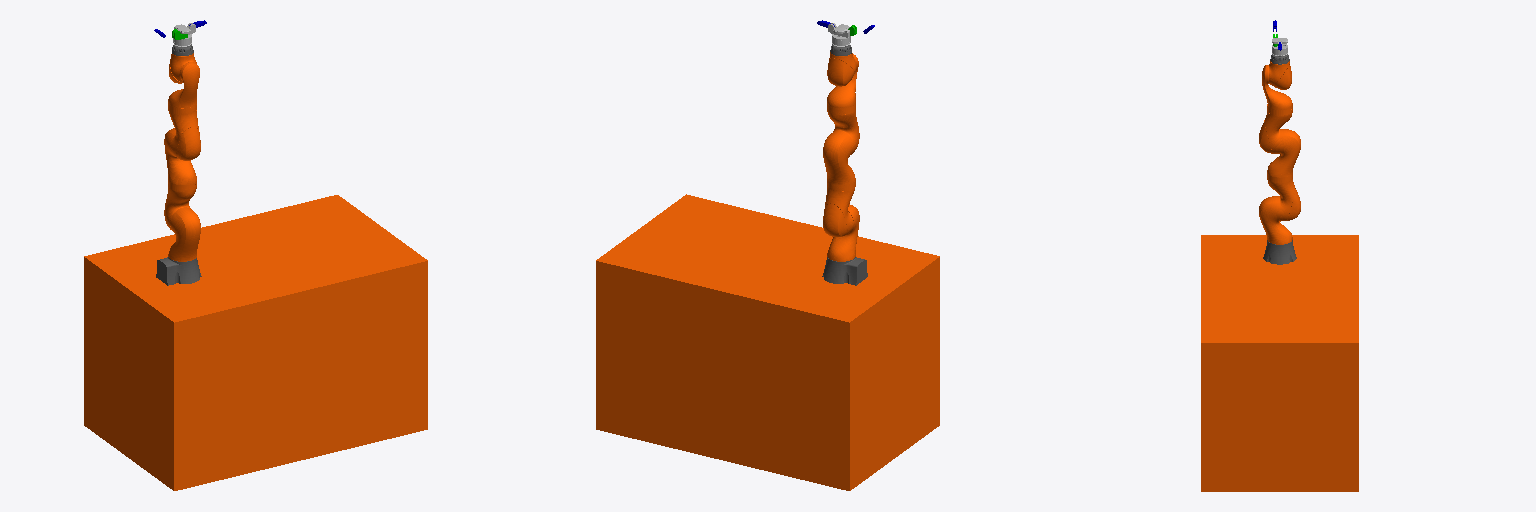
robot.urdf — iiwa7:
<?xml version="1.0" ?>
<!-- =================================================================================== -->
<!-- |    This document was autogenerated by xacro from [local-path]/kuka_ws/src/iiwa_bhand/iiwa_bhand_description/robots/iiwa7_bhand.urdf.xacro | -->
<!-- |    EDITING THIS FILE BY HAND IS NOT RECOMMENDED                                 | -->
<!-- =================================================================================== -->
<robot name="iiwa7">
  <material name="Black">
    <color rgba="0.0 0.0 0.0 1.0"/>
  </material>
  <material name="Blue">
    <color rgba="0.0 0.0 0.8 1.0"/>
  </material>
  <material name="Green">
    <color rgba="0.0 0.8 0.0 1.0"/>
  </material>
  <material name="Grey">
    <color rgba="0.4 0.4 0.4 1.0"/>
  </material>
  <material name="Orange">
    <color rgba="1.0 0.4235294117647059 0.0392156862745098 1.0"/>
  </material>
  <material name="Brown">
    <color rgba="0.8705882352941177 0.8117647058823529 0.7647058823529411 1.0"/>
  </material>
  <material name="Red">
    <color rgba="0.8 0.0 0.0 1.0"/>
  </material>
  <material name="White">
    <color rgba="1.0 1.0 1.0 1.0"/>
  </material>
  <!-- Fix to world just for testing -->
  <link name="world">
        <inertial>
      <origin rpy="0 0 0" xyz="0 0 0"/>
      <mass value="0"/>
      <inertia ixx="0" ixy="0" ixz="0" iyy="0" iyz="0" izz="0"/>
    </inertial>
  </link>
  <!--joint between {parent} and link_0-->
  <joint name="world_iiwa_joint" type="fixed">
    <origin rpy="0 0 0" xyz="0 0 0"/>
    <parent link="world"/>
    <child link="iiwa_link_0"/>
  </joint>
  <link name="iiwa_link_0">
    <inertial>
      <origin rpy="0 0 0" xyz="-0.1 0 0.07"/>
      <mass value="5"/>
      <inertia ixx="0.05" ixy="0" ixz="0" iyy="0.06" iyz="0" izz="0.03"/>
    </inertial>
    <visual>
      <origin rpy="0 0 0" xyz="0 0 0"/>
      <geometry>
        <mesh filename="package://iiwa_description/meshes/iiwa7/visual/link_0.obj"/>
      </geometry>
      <material name="Grey"/>
    </visual>
    <collision>
      <origin rpy="0 0 0" xyz="0 0 0"/>
      <geometry>
        <mesh filename="package://iiwa_description/meshes/iiwa7/collision/link_0.obj"/>
      </geometry>
      <material name="Grey"/>
    </collision>
    <self_collision_checking>
      <origin rpy="0 0 0" xyz="0 0 0"/>
      <geometry>
        <capsule length="0.25" radius="0.15"/>
      </geometry>
    </self_collision_checking>
  </link>
  <!-- joint between link_0 and link_1 -->
  <joint name="iiwa_joint_1" type="revolute">
    <parent link="iiwa_link_0"/>
    <child link="iiwa_link_1"/>
    <origin rpy="0 0 0" xyz="0 0 0.15"/>
    <axis xyz="0 0 1"/>
    <limit effort="300" lower="-2.9670597283903604" upper="2.9670597283903604" velocity="10"/>
    <safety_controller k_position="100" k_velocity="2" soft_lower_limit="-2.9321531433504737" soft_upper_limit="2.9321531433504737"/>
    <dynamics damping="0.5"/>
  </joint>
  <link name="iiwa_link_1">
    <inertial>
      <origin rpy="0 0 0" xyz="0 -0.03 0.12"/>
      <mass value="3.4525"/>
      <inertia ixx="0.02183" ixy="0" ixz="0" iyy="0.007703" iyz="-0.003887" izz="0.02083"/>
    </inertial>
    <visual>
      <origin rpy="0 0 0" xyz="0 0 0.0075"/>
      <geometry>
        <mesh filename="package://iiwa_description/meshes/iiwa7/visual/link_1.obj"/>
      </geometry>
      <material name="Orange"/>
    </visual>
    <collision>
      <origin rpy="0 0 0" xyz="0 0 0.0075"/>
      <geometry>
        <mesh filename="package://iiwa_description/meshes/iiwa7/collision/link_1.obj"/>
      </geometry>
      <material name="Orange"/>
    </collision>
  </link>
  <joint name="iiwa_joint_2" type="revolute">
    <parent link="iiwa_link_1"/>
    <child link="iiwa_link_2"/>
    <origin rpy="1.5707963267948966   0 3.141592653589793" xyz="0 0 0.19"/>
    <axis xyz="0 0 1"/>
    <limit effort="300" lower="-2.0943951023931953" upper="2.0943951023931953" velocity="10"/>
    <safety_controller k_position="100" k_velocity="2" soft_lower_limit="-2.0594885173533086" soft_upper_limit="2.0594885173533086"/>
    <dynamics damping="0.5"/>
  </joint>
  <link name="iiwa_link_2">
    <inertial>
      <origin rpy="0 0 0" xyz="0.0003 0.059 0.042"/>
      <mass value="3.4821"/>
      <inertia ixx="0.02076" ixy="0" ixz="-0.003626" iyy="0.02179" iyz="0" izz="0.00779"/>
    </inertial>
    <visual>
      <origin rpy="0 0 0" xyz="0 0 0"/>
      <geometry>
        <mesh filename="package://iiwa_description/meshes/iiwa7/visual/link_2.obj"/>
      </geometry>
      <material name="Orange"/>
    </visual>
    <collision>
      <origin rpy="0 0 0" xyz="0 0 0"/>
      <geometry>
        <mesh filename="package://iiwa_description/meshes/iiwa7/collision/link_2.obj"/>
      </geometry>
      <material name="Orange"/>
    </collision>
  </link>
  <joint name="iiwa_joint_3" type="revolute">
    <parent link="iiwa_link_2"/>
    <child link="iiwa_link_3"/>
    <origin rpy="1.5707963267948966 0 3.141592653589793" xyz="0 0.21 0"/>
    <axis xyz="0 0 1"/>
    <limit effort="300" lower="-2.9670597283903604" upper="2.9670597283903604" velocity="10"/>
    <safety_controller k_position="100" k_velocity="2" soft_lower_limit="-2.9321531433504737" soft_upper_limit="2.9321531433504737"/>
    <dynamics damping="0.5"/>
  </joint>
  <link name="iiwa_link_3">
    <inertial>
      <origin rpy="0 0 0" xyz="0 0.03 0.13"/>
      <mass value="4.05623"/>
      <inertia ixx="0.03204" ixy="0" ixz="0" iyy="0.00972" iyz="0.006227" izz="0.03042"/>
    </inertial>
    <visual>
      <origin rpy="0 0 0" xyz="0 0 -0.026"/>
      <geometry>
        <mesh filename="package://iiwa_description/meshes/iiwa7/visual/link_3.obj"/>
      </geometry>
      <material name="Orange"/>
    </visual>
    <collision>
      <origin rpy="0 0 0" xyz="0 0 -0.026"/>
      <geometry>
        <mesh filename="package://iiwa_description/meshes/iiwa7/collision/link_3.obj"/>
      </geometry>
      <material name="Orange"/>
    </collision>
  </link>
  <joint name="iiwa_joint_4" type="revolute">
    <parent link="iiwa_link_3"/>
    <child link="iiwa_link_4"/>
    <origin rpy="1.5707963267948966 0 0" xyz="0 0 0.19"/>
    <axis xyz="0 0 1"/>
    <limit effort="300" lower="-2.0943951023931953" upper="2.0943951023931953" velocity="10"/>
    <safety_controller k_position="100" k_velocity="2" soft_lower_limit="-2.0594885173533086" soft_upper_limit="2.0594885173533086"/>
    <dynamics damping="0.5"/>
  </joint>
  <link name="iiwa_link_4">
    <inertial>
      <origin rpy="0 0 0" xyz="0 0.067 0.034"/>
      <mass value="3.4822"/>
      <inertia ixx="0.02178" ixy="0" ixz="0" iyy="0.02075" iyz="-0.003625" izz="0.007785"/>
    </inertial>
    <visual>
      <origin rpy="0 0 0" xyz="0 0 0"/>
      <geometry>
        <mesh filename="package://iiwa_description/meshes/iiwa7/visual/link_4.obj"/>
      </geometry>
      <material name="Orange"/>
    </visual>
    <collision>
      <origin rpy="0 0 0" xyz="0 0 0"/>
      <geometry>
        <mesh filename="package://iiwa_description/meshes/iiwa7/collision/link_4.obj"/>
      </geometry>
      <material name="Orange"/>
    </collision>
  </link>
  <joint name="iiwa_joint_5" type="revolute">
    <parent link="iiwa_link_4"/>
    <child link="iiwa_link_5"/>
    <origin rpy="-1.5707963267948966 3.141592653589793 0" xyz="0 0.21 0"/>
    <axis xyz="0 0 1"/>
    <limit effort="300" lower="-2.9670597283903604" upper="2.9670597283903604" velocity="10"/>
    <safety_controller k_position="100" k_velocity="2" soft_lower_limit="-2.9321531433504737" soft_upper_limit="2.9321531433504737"/>
    <dynamics damping="0.5"/>
  </joint>
  <link name="iiwa_link_5">
    <inertial>
      <origin rpy="0 0 0" xyz="0.0001 0.021 0.076"/>
      <mass value="2.1633"/>
      <inertia ixx="0.01287" ixy="0" ixz="0" iyy="0.005708" iyz="-0.003946" izz="0.01112"/>
    </inertial>
    <visual>
      <origin rpy="0 0 0" xyz="0 0 -0.026"/>
      <geometry>
        <mesh filename="package://iiwa_description/meshes/iiwa7/visual/link_5.obj"/>
      </geometry>
      <material name="Orange"/>
    </visual>
    <collision>
      <origin rpy="0 0 0" xyz="0 0 -0.026"/>
      <geometry>
        <mesh filename="package://iiwa_description/meshes/iiwa7/collision/link_5.obj"/>
      </geometry>
      <material name="Orange"/>
    </collision>
  </link>
  <joint name="iiwa_joint_6" type="revolute">
    <parent link="iiwa_link_5"/>
    <child link="iiwa_link_6"/>
    <origin rpy="1.5707963267948966 0 0" xyz="0 0.06070 0.19"/>
    <axis xyz="0 0 1"/>
    <limit effort="300" lower="-2.0943951023931953" upper="2.0943951023931953" velocity="10"/>
    <safety_controller k_position="100" k_velocity="2" soft_lower_limit="-2.0594885173533086" soft_upper_limit="2.0594885173533086"/>
    <dynamics damping="0.5"/>
  </joint>
  <link name="iiwa_link_6">
    <inertial>
      <origin rpy="0 0 0" xyz="0 0.0006 0.0004"/>
      <mass value="2.3466"/>
      <inertia ixx="0.006509" ixy="0" ixz="0" iyy="0.006259" iyz="0.00031891" izz="0.004527"/>
    </inertial>
    <visual>
      <origin rpy="0 0 0" xyz="0 0 0"/>
      <geometry>
        <mesh filename="package://iiwa_description/meshes/iiwa7/visual/link_6.obj"/>
      </geometry>
      <material name="Orange"/>
    </visual>
    <collision>
      <origin rpy="0 0 0" xyz="0 0 0"/>
      <geometry>
        <mesh filename="package://iiwa_description/meshes/iiwa7/collision/link_6.obj"/>
      </geometry>
      <material name="Orange"/>
    </collision>
  </link>
  <joint name="iiwa_joint_7" type="revolute">
    <parent link="iiwa_link_6"/>
    <child link="iiwa_link_7"/>
    <origin rpy="-1.5707963267948966 3.141592653589793 0" xyz="0 0.081 0.06070"/>
    <axis xyz="0 0 1"/>
    <limit effort="300" lower="-3.0543261909900763" upper="3.0543261909900763" velocity="10"/>
    <safety_controller k_position="100" k_velocity="2" soft_lower_limit="-3.01941960595019" soft_upper_limit="3.01941960595019"/>
    <dynamics damping="0.5"/>
  </joint>
  <link name="iiwa_link_7">
    <inertial>
      <origin rpy="0 0 0" xyz="0 0 0.02"/>
      <mass value="3.129"/>
      <inertia ixx="0.01464" ixy="0.0005912" ixz="0" iyy="0.01465" iyz="0" izz="0.002872"/>
    </inertial>
    <visual>
      <origin rpy="0 0 0" xyz="0 0 -0.0005"/>
      <geometry>
        <mesh filename="package://iiwa_description/meshes/iiwa7/visual/link_7.obj"/>
      </geometry>
      <material name="Grey"/>
    </visual>
    <collision>
      <origin rpy="0 0 0" xyz="0 0 -0.0005"/>
      <geometry>
        <mesh filename="package://iiwa_description/meshes/iiwa7/collision/link_7.obj"/>
      </geometry>
      <material name="Grey"/>
    </collision>
  </link>
  <joint name="iiwa_joint_ee" type="fixed">
    <parent link="iiwa_link_7"/>
    <child link="iiwa_link_ee"/>
    <origin rpy="0 0 0" xyz="0 0 0.045"/>
  </joint>
  <link name="iiwa_link_ee">
      <inertial>
      <origin rpy="0 0 0" xyz="0 0 0"/>
      <mass value="0"/>
      <inertia ixx="0" ixy="0" ixz="0" iyy="0" iyz="0" izz="0"/>
    </inertial>
  </link>
  <joint name="hand_joint" type="fixed">
    <origin rpy="0 0 1.57" xyz="0 0 0"/>
    <parent link="iiwa_link_ee"/>
    <child link="hand_base_link"/>
  </joint>
  <link name="hand_base_link">
    <inertial>
      <origin rpy="0 0 0" xyz="0 0 0"/>
      <mass value="0"/>
      <inertia ixx="0" ixy="0" ixz="0" iyy="0" iyz="0" izz="0"/>
    </inertial>
  </link>
  <link name="table1">
    <inertial>
      <mass value="10.0"/>
      <inertia ixx="1.25" ixy="0.00" ixz="0.0" iyy="2.24" iyz="0.0" izz="2.2"/>
    </inertial>
    <visual>
      <geometry>
        <mesh filename="package://bullet_ros_kuka/meshes/visual/table1.obj"/>
      </geometry>
      <material name="Orange"/>
      <origin rpy="0 0 0" xyz="0 0 -0.44"/>
    </visual>
    <collision>
      <geometry>
        <mesh filename="package://bullet_ros_kuka/meshes/collision/table1.obj"/>
      </geometry>
      <material name="Red"/>
      <origin rpy="0 0 0" xyz="0 0 -0.44"/>
    </collision>
  </link>
  <joint name="table1_joint" type="fixed">
    <origin rpy="0 0 0" xyz="0.4 0.0 0.05"/>
    <!--May be too harsh, change to lower in Z if you want the robot to go lower-->
    <parent link="world"/>
    <child link="table1"/>
  </joint>
  <link name="table1_mount">
    <inertial>
      <origin rpy="0 0 0" xyz="0 0 0"/>
      <mass value="0"/>
      <inertia ixx="0" ixy="0" ixz="0" iyy="0" iyz="0" izz="0"/>
    </inertial>
  </link>
  <joint name="table1_mount_joint" type="fixed">
    <origin rpy="0 0 0" xyz="-0.4625 0 0"/>
    <parent link="table1"/>
    <child link="table1_mount"/>
  </joint>
  <joint name="bh_base_joint" type="fixed">
    <origin rpy="0 0 0" xyz="0 0 0"/>
    <parent link="hand_base_link"/>
    <child link="bh_base_link"/>
  </joint>
  <!-- HAND BASE_LINK (RED) -->
  <link name="bh_base_link">
    <inertial>
      <mass value="0.9"/>
      <origin xyz="0 0 0"/>
      <inertia ixx="1.0" ixy="0.0" ixz="0.0" iyy="1.0" iyz="0.0" izz="1.0"/>
    </inertial>
    <visual>
      <origin rpy="0 0 0" xyz="0 0 0"/>
      <geometry>
        <mesh filename="package://barrett_hand/meshes/palm_280.obj"/>
      </geometry>
      <material name="Grey">
        <color rgba="0.75 0.75 0.75 1.0"/>
      </material>
    </visual>
    <collision>
      <origin rpy="0 0 0 " xyz="0 0 0"/>
      <geometry>
        <mesh filename="package://barrett_hand/meshes/palm_280.obj"/>
      </geometry>
      <contact_coefficients kd="1.0" kp="1000.0" mu="0"/>
    </collision>
  </link>
  <!-- finger 3 -->
  <!-- finger 32 link -->
  <link name="bh_finger_32_link">
    <inertial>
      <mass value="0.01"/>
      <origin rpy="0 0 0" xyz="0 0 0"/>
      <inertia ixx="0.01" ixy="0" ixz="0" iyy="0.01" iyz="0" izz="0.01"/>
    </inertial>
    <visual>
      <origin rpy="0 0 0" xyz="0 0 0"/>
      <geometry>
        <mesh filename="package://barrett_hand/meshes/finger_32.obj"/>
      </geometry>
      <material name="Blue"/>
    </visual>
    <collision>
      <origin rpy="0 0 0" xyz="0 0 0"/>
      <geometry>
        <mesh filename="package://barrett_hand/meshes/finger_32.obj"/>
      </geometry>
      <contact_coefficients kd="1.0" kp="1000.0" mu="0"/>
    </collision>
  </link>
  <!-- joint between BH_finger_31_link and BH_finger_32_link -->
  <joint name="bh_j32_joint" type="revolute">
    <parent link="bh_base_link"/>
    <child link="bh_finger_32_link"/>
    <origin rpy="1.5708 0 1.5708" xyz="0 -0.05 0.0754"/>
    <axis xyz="0 0 -1"/>
    <limit effort="30.0" lower="0.0" upper="2.44" velocity="2.0"/>
  </joint>
  <!-- finger 33 link -->
  <link name="bh_finger_33_link">
    <inertial>
      <mass value="0.01"/>
      <origin rpy="0 0 0" xyz="0 0 0"/>
      <inertia ixx="0.01" ixy="0" ixz="0" iyy="0.01" iyz="0" izz="0.01"/>
    </inertial>
    <visual>
      <origin rpy="0 0 0" xyz="0 0 0"/>
      <geometry>
        <mesh filename="package://barrett_hand/meshes/finger_tip_33.obj"/>
      </geometry>
      <material name="Blue"/>
    </visual>
    <collision>
      <origin rpy="0 0 0" xyz="0 0 0"/>
      <geometry>
        <mesh filename="package://barrett_hand/meshes/finger_tip_33.obj"/>
      </geometry>
      <contact_coefficients kd="1.0" kp="1000.0" mu="0"/>
    </collision>
  </link>
  <!-- joint between BH_finger_32_link and BH_finger_33_link -->
  <joint name="bh_j33_joint" type="revolute">
    <parent link="bh_finger_32_link"/>
    <child link="bh_finger_33_link"/>
    <origin rpy="0 0 0" xyz="-0.069936 0.003 0"/>
    <axis xyz="0 0 -1"/>
    <mimic joint="bh_j32_joint" multiplier="0.3442622950819672"/>
    <limit effort="30.0" lower="0.0" upper="0.84" velocity="2.0"/>
  </joint>
  <!-- finger 1 -->
  <!-- finger 11 link -->
  <link name="bh_finger_11_link">
    <inertial>
      <mass value="0.01"/>
      <origin rpy="0 0 0" xyz="-0.046 0 0"/>
      <inertia ixx="0.01" ixy="0" ixz="0" iyy="0.01" iyz="0" izz="0.01"/>
    </inertial>
    <visual>
      <origin rpy="0 0 0" xyz="0 0 0"/>
      <geometry>
        <mesh filename="package://barrett_hand/meshes/knuckle.obj"/>
      </geometry>
      <material name="Green"/>
    </visual>
    <collision>
      <origin rpy="0 0 0" xyz="0 0 0"/>
      <geometry>
        <mesh filename="package://barrett_hand/meshes/knuckle.obj"/>
      </geometry>
    </collision>
  </link>
  <!-- joint between BH_palm_link and BH_finger_11_link -->
  <joint name="bh_j11_joint" type="revolute">
    <parent link="bh_base_link"/>
    <child link="bh_finger_11_link"/>
    <origin rpy="0 0 -1.5708" xyz="0.025 0 0.0415"/>
    <axis xyz="0 0 -1"/>
    <limit effort="30.0" lower="0" upper="3.1416" velocity="2.0"/>
  </joint>
  <!-- finger 12 link -->
  <link name="bh_finger_12_link">
    <inertial>
      <mass value="0.01"/>
      <origin rpy="0 0 0" xyz="0 0 0"/>
      <inertia ixx="0.01" ixy="0" ixz="0" iyy="0.01" iyz="0" izz="0.01"/>
    </inertial>
    <visual>
      <origin rpy="0 0 0" xyz="0 0 0"/>
      <geometry>
        <mesh filename="package://barrett_hand/meshes/finger_12.obj"/>
      </geometry>
      <material name="Blue"/>
    </visual>
    <collision>
      <origin rpy="0 0 0" xyz="0 0 0"/>
      <geometry>
        <mesh filename="package://barrett_hand/meshes/finger_12.obj"/>
      </geometry>
      <contact_coefficients kd="1.0" kp="1000.0" mu="0"/>
    </collision>
  </link>
  <!-- joint between BH_finger_11_link and BH_finger_12_link -->
  <joint name="bh_j12_joint" type="revolute">
    <parent link="bh_finger_11_link"/>
    <child link="bh_finger_12_link"/>
    <origin rpy="1.5708 0 0" xyz="-0.05 0 0.0339"/>
    <axis xyz="0 0 -1"/>
    <limit effort="30.0" lower="0.0" upper="2.44" velocity="2.0"/>
  </joint>
  <!-- finger 13 link -->
  <link name="bh_finger_13_link">
    <inertial>
      <mass value="0.01"/>
      <origin rpy="0 0 0" xyz="0 0 0"/>
      <inertia ixx="0.01" ixy="0" ixz="0" iyy="0.01" iyz="0" izz="0.01"/>
    </inertial>
    <visual>
      <origin rpy="0 0 0" xyz="0 0 0"/>
      <geometry>
        <mesh filename="package://barrett_hand/meshes/finger_tip_13.obj"/>
      </geometry>
      <material name="Blue"/>
    </visual>
    <collision>
      <origin rpy="0 0 0" xyz="0 0 0"/>
      <geometry>
        <mesh filename="package://barrett_hand/meshes/finger_tip_13.obj"/>
      </geometry>
      <contact_coefficients kd="1.0" kp="1000.0" mu="0"/>
    </collision>
  </link>
  <!-- joint between BH_finger_12_link and BH_finger_13_link -->
  <joint name="bh_j13_joint" type="revolute">
    <parent link="bh_finger_12_link"/>
    <child link="bh_finger_13_link"/>
    <origin rpy="0 0 0" xyz="-0.069936 0.003 0"/>
    <axis xyz="0 0 -1"/>
    <mimic joint="bh_j12_joint" multiplier="0.3442622950819672"/>
    <limit effort="30.0" lower="0.0" upper="0.84" velocity="2.0"/>
  </joint>
  <!-- finger 2 -->
  <!-- finger 21 link -->
  <link name="bh_finger_21_link">
    <inertial>
      <mass value="0.01"/>
      <origin rpy="0 0 0" xyz="-0.046 0 0"/>
      <inertia ixx="0.01" ixy="0" ixz="0" iyy="0.01" iyz="0" izz="0.01"/>
    </inertial>
    <visual>
      <origin rpy="0 0 0" xyz="0 0 0"/>
      <geometry>
        <mesh filename="package://barrett_hand/meshes/knuckle_2.obj"/>
      </geometry>
      <material name="Green"/>
    </visual>
    <collision>
      <origin rpy="0 0 0" xyz="0 0 0"/>
      <geometry>
        <mesh filename="package://barrett_hand/meshes/knuckle_2.obj"/>
      </geometry>
    </collision>
  </link>
  <!-- joint between BH_palm_link and BH_finger_21_link -->
  <joint name="bh_j21_joint" type="revolute">
    <parent link="bh_base_link"/>
    <child link="bh_finger_21_link"/>
    <origin rpy="0 0 -1.5708" xyz="-0.025 0 0.0415"/>
    <axis xyz="0 0 1"/>
    <mimic joint="bh_j11_joint" multiplier="1"/>
    <limit effort="30.0" lower="0" upper="3.1416" velocity="2.0"/>
  </joint>
  <!-- finger 12 link -->
  <link name="bh_finger_22_link">
    <inertial>
      <mass value="0.01"/>
      <origin rpy="0 0 0" xyz="0 0 0"/>
      <inertia ixx="0.01" ixy="0" ixz="0" iyy="0.01" iyz="0" izz="0.01"/>
    </inertial>
    <visual>
      <origin rpy="0 0 0" xyz="0 0 0"/>
      <geometry>
        <mesh filename="package://barrett_hand/meshes/finger_22.obj"/>
      </geometry>
      <material name="Blue"/>
    </visual>
    <collision>
      <origin rpy="0 0 0" xyz="0 0 0"/>
      <geometry>
        <mesh filename="package://barrett_hand/meshes/finger_22.obj"/>
      </geometry>
      <contact_coefficients kd="1.0" kp="1000.0" mu="0"/>
    </collision>
  </link>
  <!-- joint between BH_finger_21_link and BH_finger_22_link -->
  <joint name="bh_j22_joint" type="revolute">
    <parent link="bh_finger_21_link"/>
    <child link="bh_finger_22_link"/>
    <origin rpy="1.5708 -8.8281E-17 0" xyz="-0.05 0 0.0339"/>
    <axis xyz="0 0 -1"/>
    <limit effort="30.0" lower="0.0" upper="2.44" velocity="2.0"/>
  </joint>
  <!-- finger 23 link -->
  <link name="bh_finger_23_link">
    <inertial>
      <mass value="0.01"/>
      <origin rpy="0 0 0" xyz="0 0 0"/>
      <inertia ixx="0.01" ixy="0" ixz="0" iyy="0.01" iyz="0" izz="0.01"/>
    </inertial>
    <visual>
      <origin rpy="0 0 0" xyz="0 0 0"/>
      <geometry>
        <mesh filename="package://barrett_hand/meshes/finger_tip_23.obj"/>
      </geometry>
      <material name="Blue"/>
    </visual>
    <collision>
      <origin rpy="0 0 0" xyz="0 0 0"/>
      <geometry>
        <mesh filename="package://barrett_hand/meshes/finger_tip_23.obj"/>
      </geometry>
      <contact_coefficients kd="1.0" kp="1000.0" mu="0"/>
    </collision>
  </link>
  <!-- joint between BH_finger_22_link and BH_finger_23_link -->
  <joint name="bh_j23_joint" type="revolute">
    <parent link="bh_finger_22_link"/>
    <child link="bh_finger_23_link"/>
    <origin rpy="0 0 0" xyz="-0.069936 0.003 0"/>
    <axis xyz="0 0 -1"/>
    <mimic joint="bh_j22_joint" multiplier="0.3442622950819672"/>
    <limit effort="30.0" lower="0.0" upper="0.84" velocity="2.0"/>
  </joint>
</robot>

--- What the picture shows (computed from the rendered views, not written in the file) ---
3 views of the same robot in one strip: view 1: azimuth 30°, elevation 25°; view 2: azimuth 150°, elevation 25°; view 3: azimuth 270°, elevation 25° (orthographic).
Robot: iiwa7 — 22 links, 21 joints (15 revolute, 6 fixed); root link world; default pose: every joint at zero.
Visible links, largest first — view 1: table1, iiwa_link_1, iiwa_link_4, iiwa_link_5, iiwa_link_3, iiwa_link_0, iiwa_link_2; view 2: table1, iiwa_link_3, iiwa_link_2, iiwa_link_0, iiwa_link_1, iiwa_link_5, iiwa_link_6, iiwa_link_4; view 3: table1, iiwa_link_3, iiwa_link_1, iiwa_link_4, iiwa_link_2, iiwa_link_5, iiwa_link_0, iiwa_link_6.
Boxes of the visible links, box(x1,y1,x2,y2) form: table1: box(84, 195, 427, 490); iiwa_link_1: box(168, 207, 200, 261); iiwa_link_4: box(168, 110, 200, 160); iiwa_link_5: box(168, 62, 199, 114); iiwa_link_3: box(164, 128, 196, 191); iiwa_link_0: box(156, 257, 201, 285); iiwa_link_2: box(164, 187, 196, 229); table1: box(596, 194, 939, 490); iiwa_link_3: box(823, 131, 855, 191); iiwa_link_2: box(823, 187, 854, 236); iiwa_link_0: box(822, 257, 867, 285); iiwa_link_1: box(827, 204, 859, 261); iiwa_link_5: box(827, 54, 858, 114); iiwa_link_6: box(827, 52, 856, 86); iiwa_link_4: box(827, 110, 859, 154); table1: box(1201, 235, 1358, 491); iiwa_link_3: box(1267, 129, 1300, 182); iiwa_link_1: box(1259, 196, 1292, 244); iiwa_link_4: box(1259, 111, 1292, 153); iiwa_link_2: box(1267, 179, 1300, 221); iiwa_link_5: box(1262, 65, 1292, 115); iiwa_link_0: box(1263, 240, 1296, 264); iiwa_link_6: box(1269, 61, 1291, 89).
Bounding box of the posed robot: 1.39 × 0.855 × 2.21 m (x, y, z).
13 mesh visuals loaded from 18 distinct referenced files (13 OBJ); not drawn: 5 (reference not matched to a file when rendering).